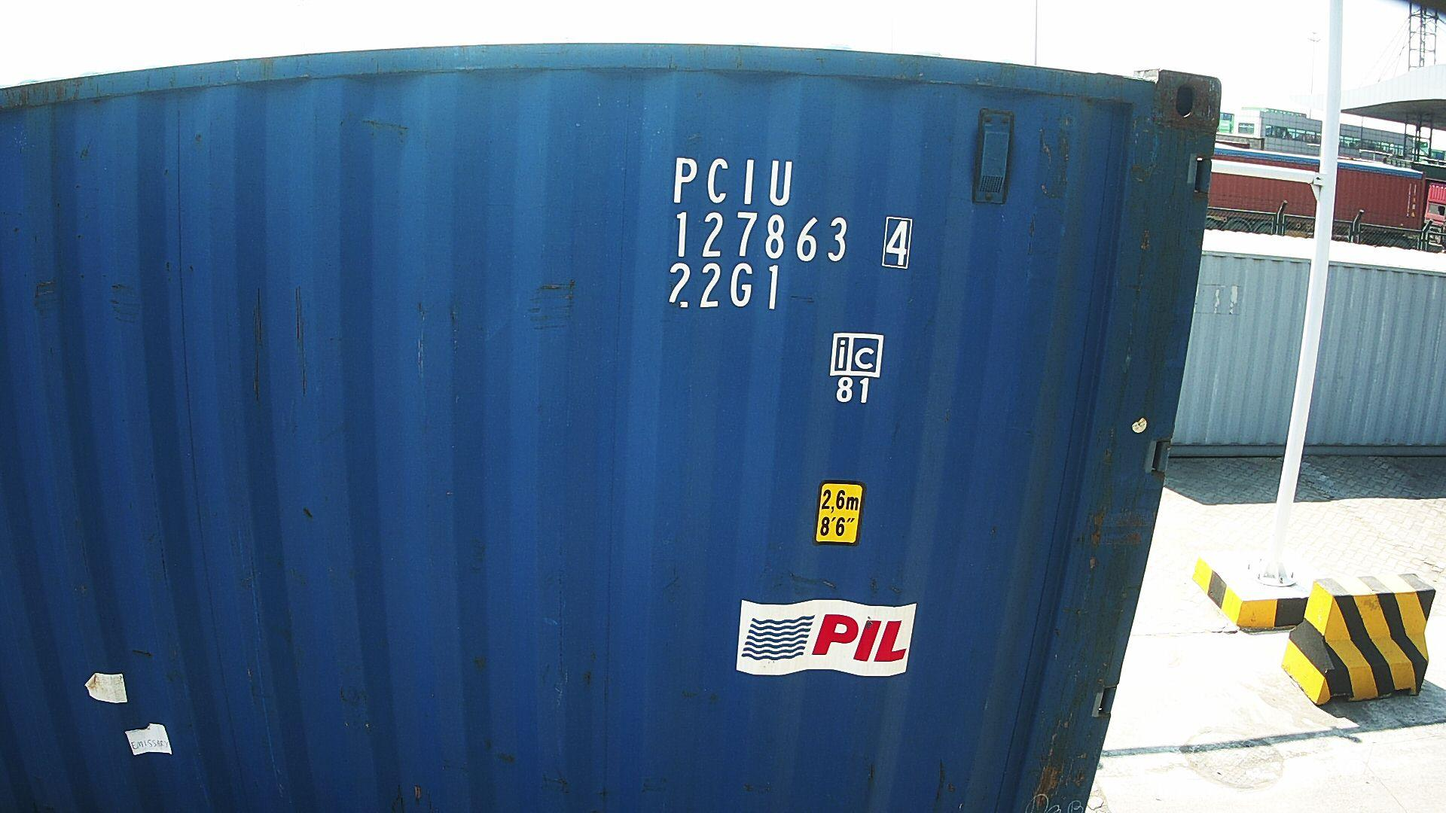container-numbers: (665, 209, 917, 271), (666, 154, 798, 209), (662, 261, 785, 314)
